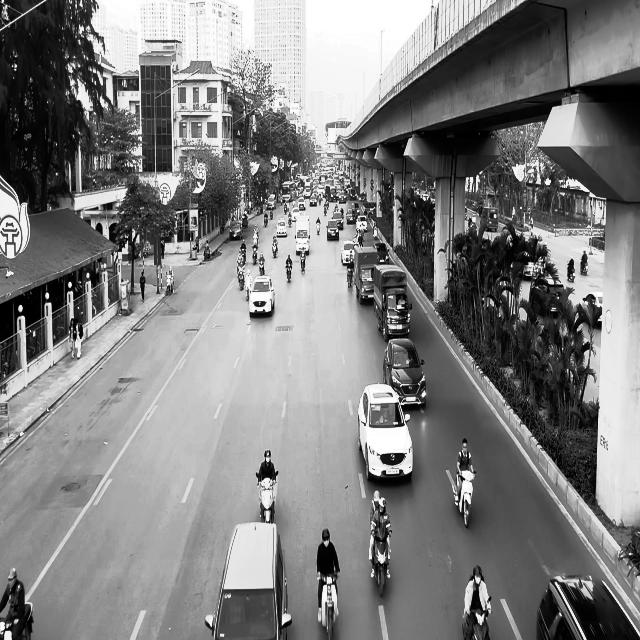car: (205, 521, 292, 639), (536, 574, 640, 640), (357, 383, 413, 481), (383, 337, 426, 408), (528, 274, 564, 320), (248, 276, 274, 317), (229, 220, 243, 240)
motorbike: (317, 570, 340, 639), (370, 528, 391, 597), (454, 469, 476, 528), (256, 471, 278, 523), (300, 247, 306, 272), (567, 264, 575, 282), (580, 259, 588, 275), (272, 236, 278, 257)
